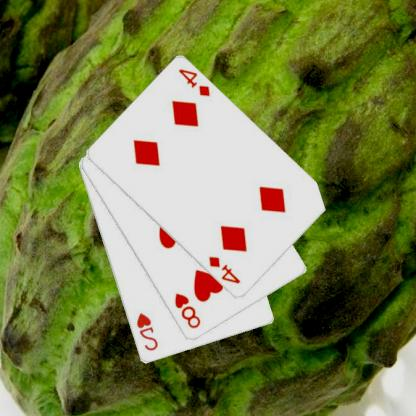2H: (135, 310, 161, 352)
4D: (207, 254, 244, 286), (178, 66, 214, 98)
8H: (174, 291, 204, 331)
